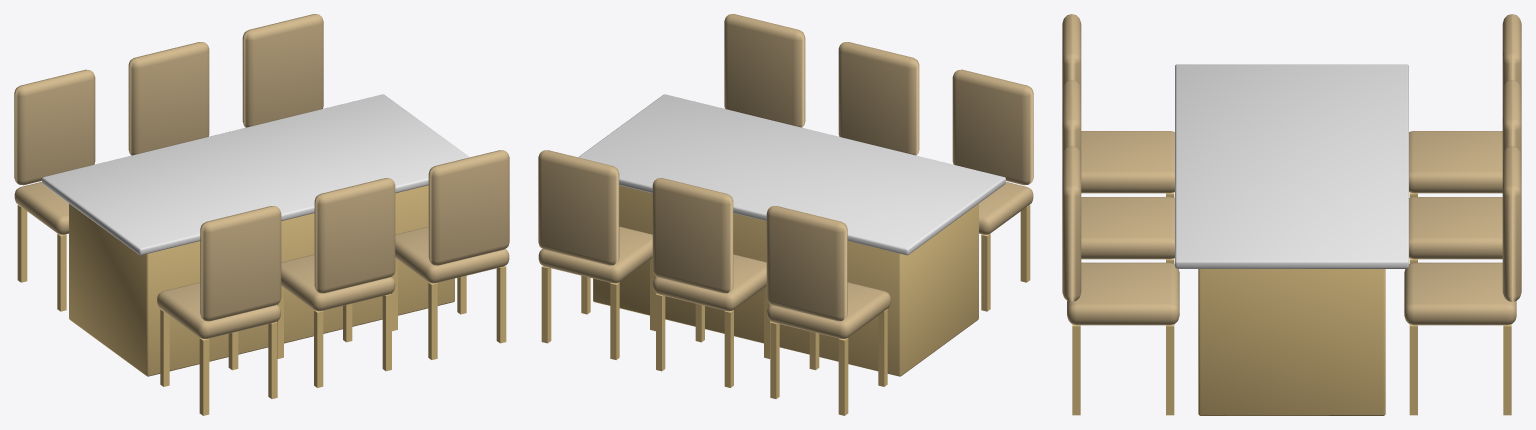
The model's file is fur_dining_6.glb.
3 views of the same model, side by side, from view 1: azimuth 30°, elevation 25°; view 2: azimuth 150°, elevation 25°; view 3: azimuth 270°, elevation 25° (orthographic). The views are drawn at different scales.
Visible parts, largest first — view 1: FUR_dining_6; view 2: FUR_dining_6; view 3: FUR_dining_6.
Part boxes in pixels (x1,y1,x2,y2): FUR_dining_6: (14,14,509,415); FUR_dining_6: (538,14,1033,415); FUR_dining_6: (1062,14,1521,415).
Bounding box in the file's own units: 2 × 1.07 × 1.96.
2 materials, 1 textured.
